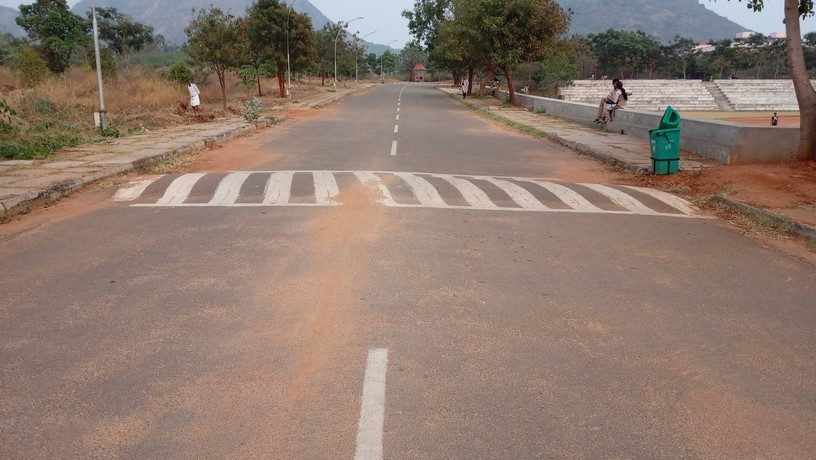bump: (98, 168, 710, 212)
